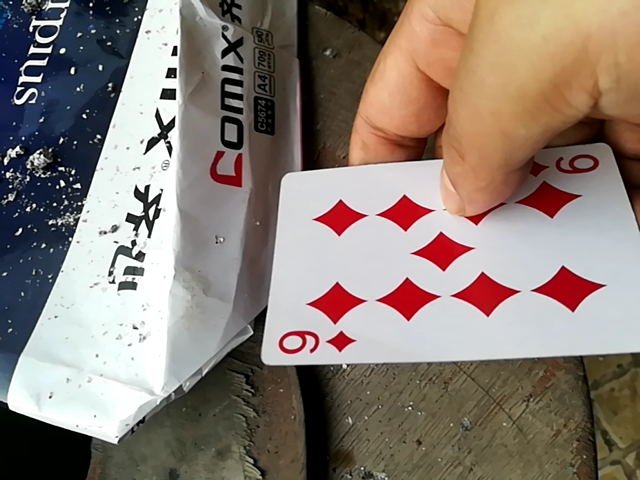fk 9: (257, 151, 640, 370)
